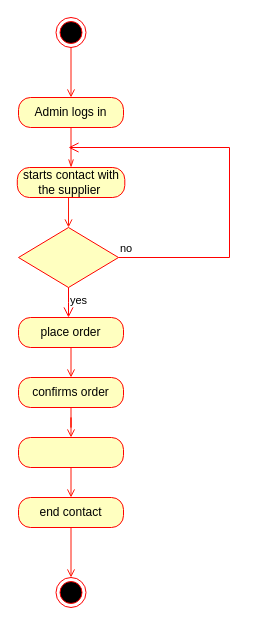
The diagram is 258 pixels wide and 625 high, and some of its shapes have lost their labels. Each missing label, with the centre of its shape:
"make payment" belongs at point (71, 452).
"supplier availability" belongs at point (68, 257).
